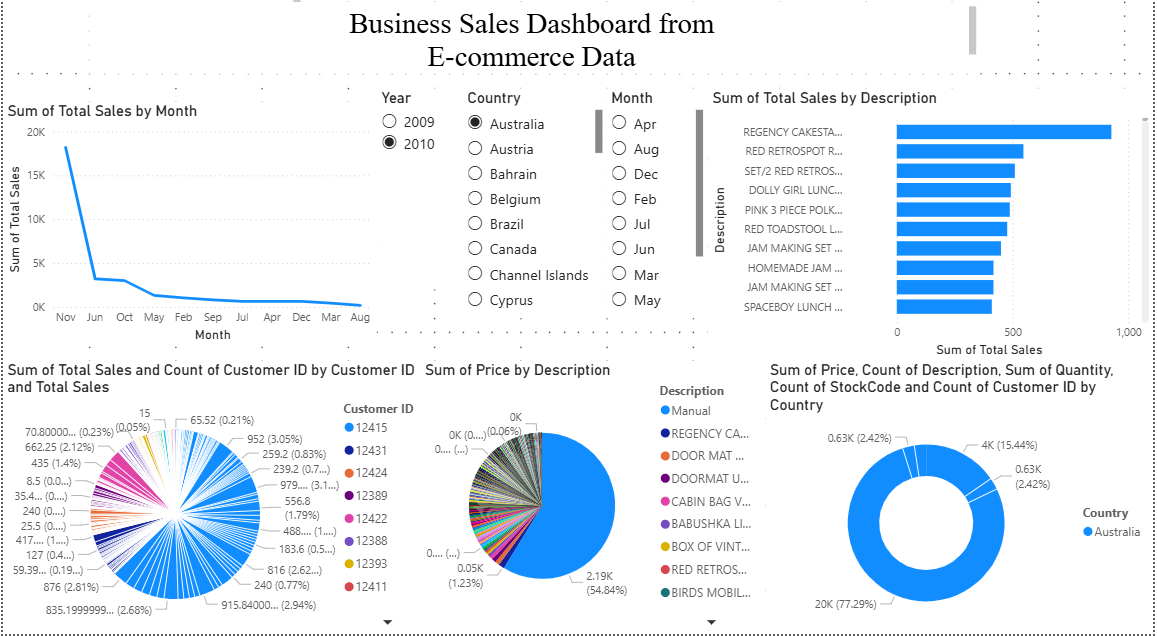

What the dashboard file says about the page in this screenshot:
{"tool":"powerbi","page":{"name":"Page 1","canvas":[1280,720],"ordinal":0},"visuals":[{"type":"lineChart","fields":{"Y":["Sum(Year 2009-2010.Total Sales)"],"Category":["Year 2009-2010.Month"]},"box":[0,128,416,272],"z":0},{"type":"barChart","fields":{"Category":["Year 2009-2010.Description"],"Y":["Sum(Year 2009-2010.Total Sales)"]},"box":[784,112,496,304],"z":1000},{"type":"pieChart","fields":{"Series":["Year 2009-2010.Total Sales"],"Y":["Sum(Year 2009-2010.Total Sales)"],"Category":["Year 2009-2010.Customer ID"]},"box":[0,416,480,304],"z":2000},{"type":"listSlicer","fields":{"Values":["Year 2009-2010.Country"]},"box":[512,112,160,256],"z":4000},{"type":"listSlicer","fields":{"Values":["Year 2009-2010.Year"]},"box":[416,112,96,224],"z":5000},{"type":"listSlicer","fields":{"Values":["Year 2009-2010.Month"]},"box":[672,112,112,256],"z":6000},{"type":"pieChart","fields":{"Category":["Year 2009-2010.Description"],"Y":["Sum(Year 2009-2010.Price)"]},"box":[464,416,384,304],"z":7000},{"type":"donutChart","fields":{"Category":["Year 2009-2010.Country"],"Y":["Sum(Year 2009-2010.Price)","CountNonNull(Year 2009-2010.Description)","Sum(Year 2009-2010.Quantity)","CountNonNull(Year 2009-2010.StockCode)","CountNonNull(Year 2009-2010.Customer ID)"]},"box":[848,416,432,304],"z":8000},{"type":"textbox","box":[0,0,336,24],"z":9000},{"type":"textbox","box":[96,16,992,80],"z":9001}]}

Visuals, with their boxes in screenshot pixels (x1, y1, x2, y2), scaled from the page's 1280x720 canvas onto the 1157x636 screenshot:
lineChart - Sum(Year 2009-2010.Total Sales) x Year 2009-2010.Month: l=0, t=113, r=376, b=353
barChart - Year 2009-2010.Description x Sum(Year 2009-2010.Total Sales): l=709, t=99, r=1156, b=367
pieChart - Year 2009-2010.Total Sales x Sum(Year 2009-2010.Total Sales): l=0, t=367, r=434, b=635
listSlicer - Year 2009-2010.Country: l=463, t=99, r=607, b=325
listSlicer - Year 2009-2010.Year: l=376, t=99, r=463, b=297
listSlicer - Year 2009-2010.Month: l=607, t=99, r=709, b=325
pieChart - Year 2009-2010.Description x Sum(Year 2009-2010.Price): l=419, t=367, r=767, b=635
donutChart - Year 2009-2010.Country x Sum(Year 2009-2010.Price): l=767, t=367, r=1156, b=635
textbox: l=0, t=0, r=304, b=21
textbox: l=87, t=14, r=983, b=85
